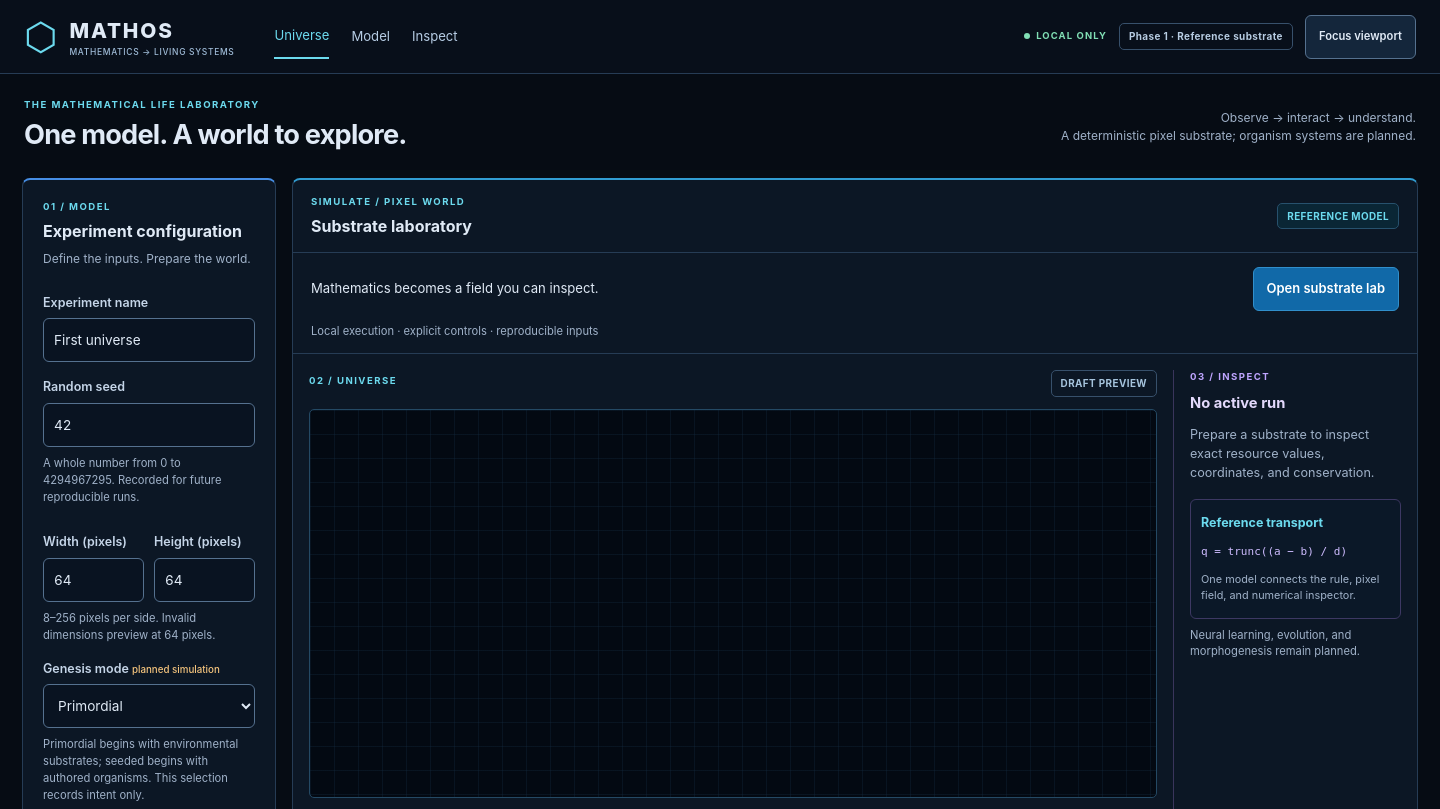
Scenario: configuration workflow › rejects invalid drafts without overwriting a previous save
Clear the number field labelled "Random seed" at (149, 425), box [43,403,255,447]
(page scrolled)
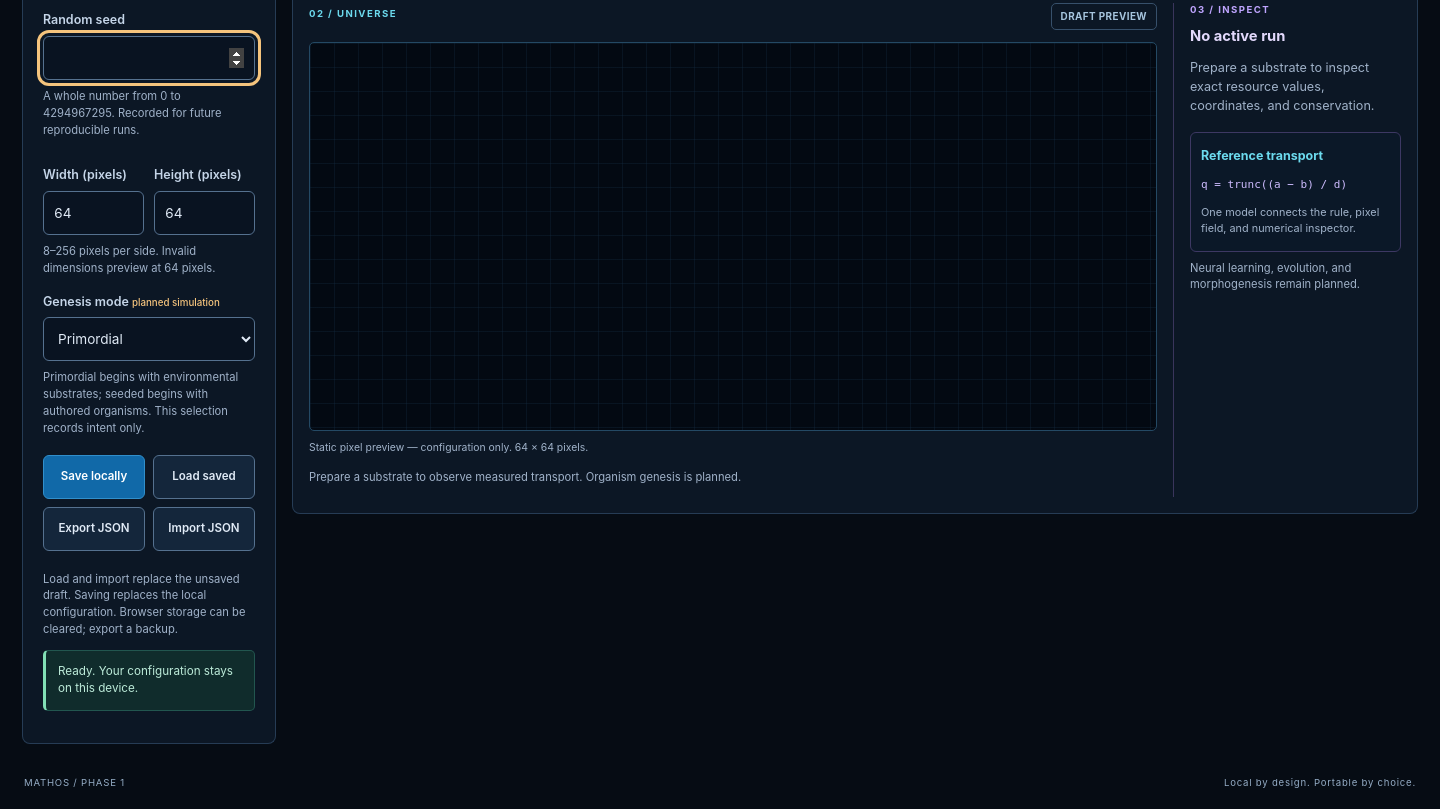
Click the button "Save locally".
click(94, 477)  # box [43,455,145,499]
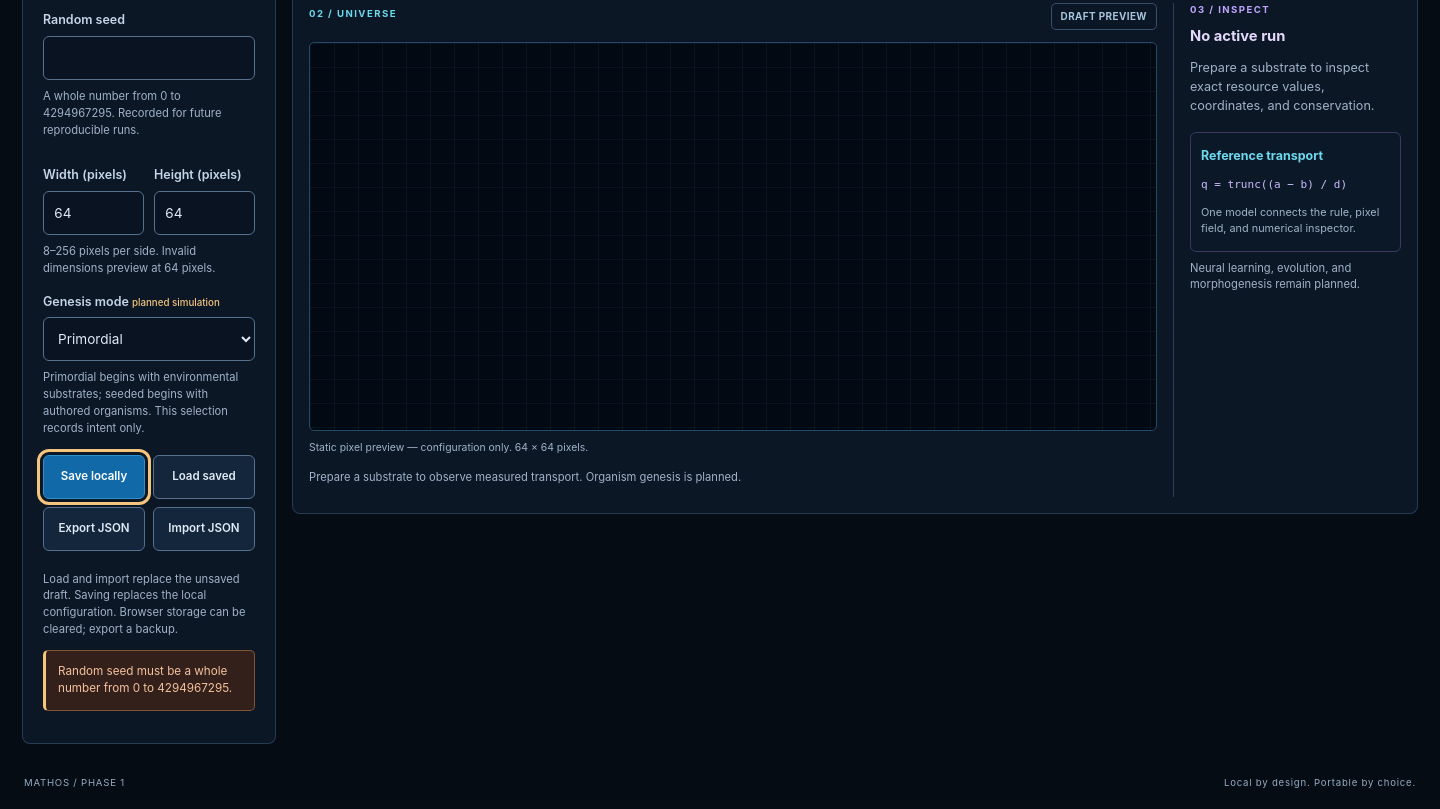
Expected: the message shows "Random seed", [58,664,232,695]
